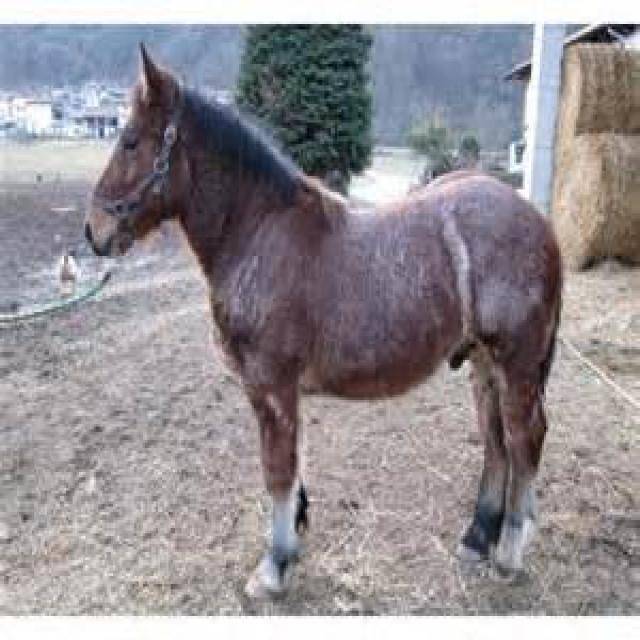horse: (86, 47, 562, 596)
